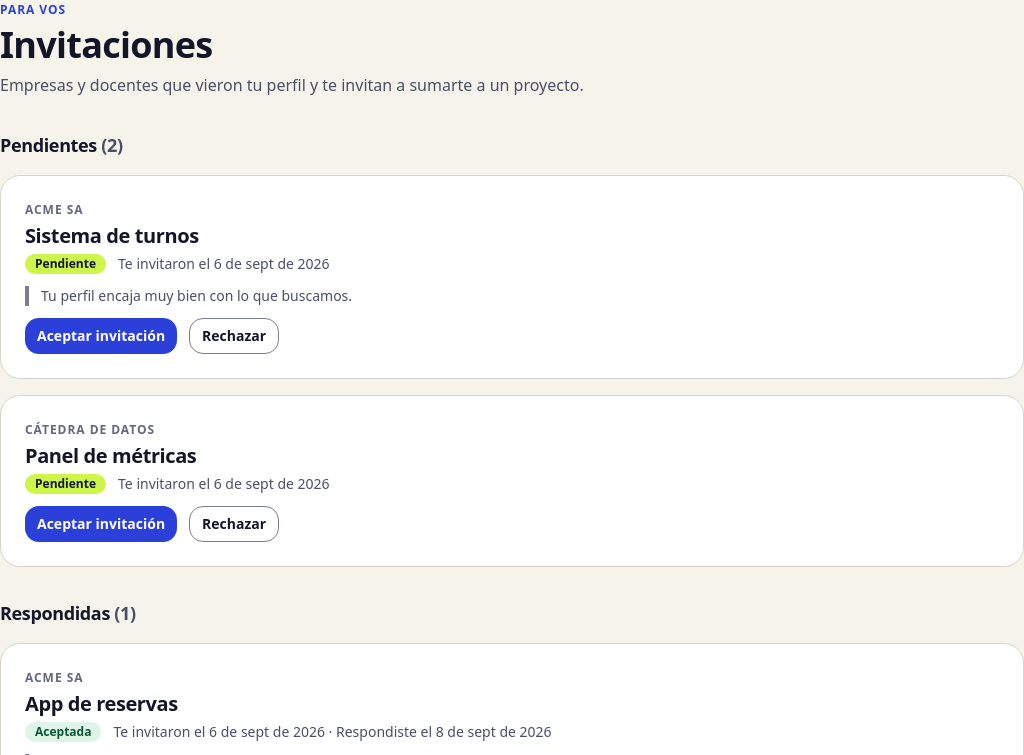
Test case: InvitacionesPage › aceptar › al confirmar responde que sí, avisa que se creó la postulación y refresca el listado
Expected: the link "Sistema de turnos" is shown, x1=25 y1=222 x2=199 y2=249
Click the button "Aceptar invitación" below "Sistema de turnos".
click(101, 336)  # box x1=25 y1=318 x2=177 y2=354
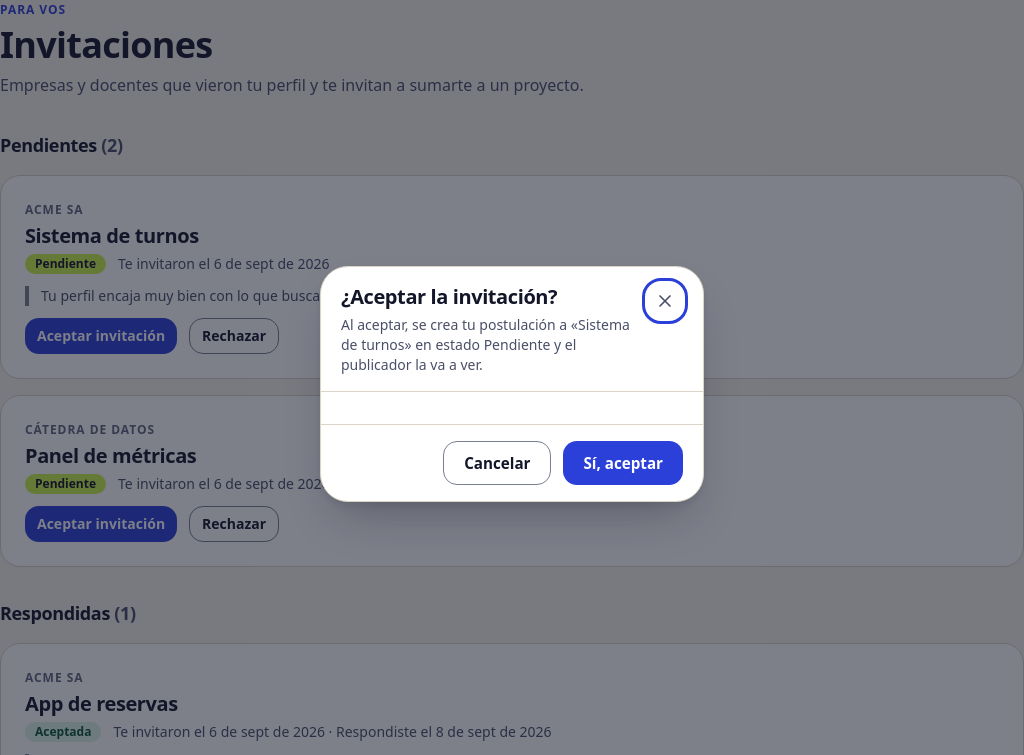
Click the button "Sí, aceptar".
click(623, 463)  # box x1=564 y1=441 x2=683 y2=485
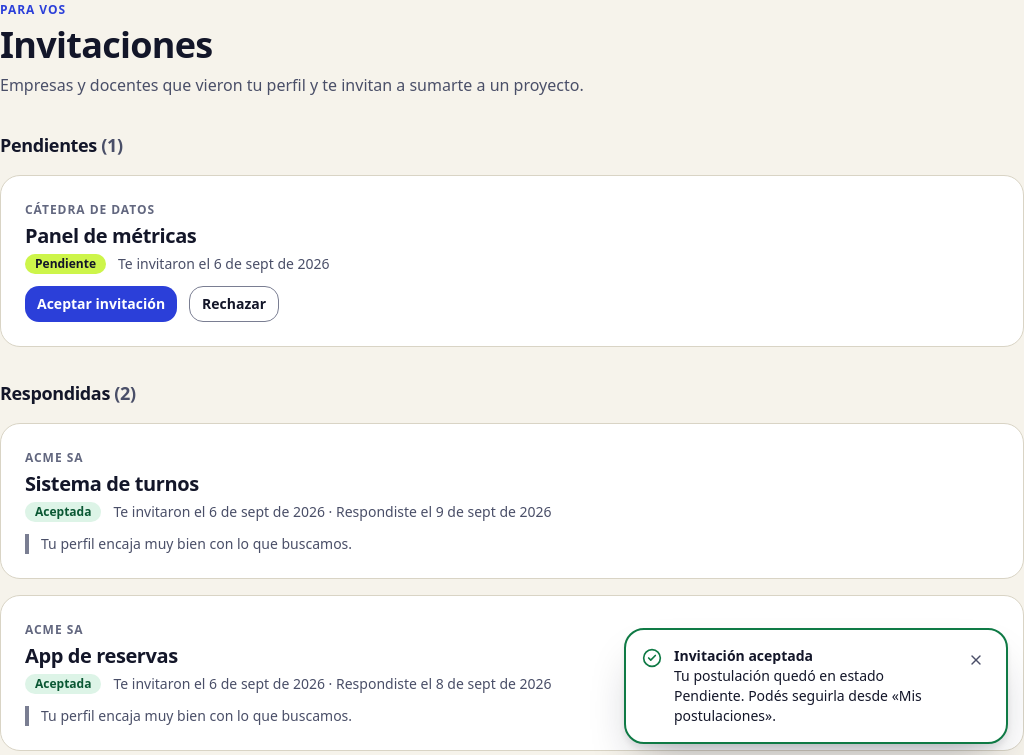
Now the text "Tu postulación quedó en estado Pendiente" is shown, box x1=674 y1=666 x2=922 y2=725
Now the dialog is gone
Now the heading "Pendientes (1)" is shown, box x1=0 y1=133 x2=123 y2=157
